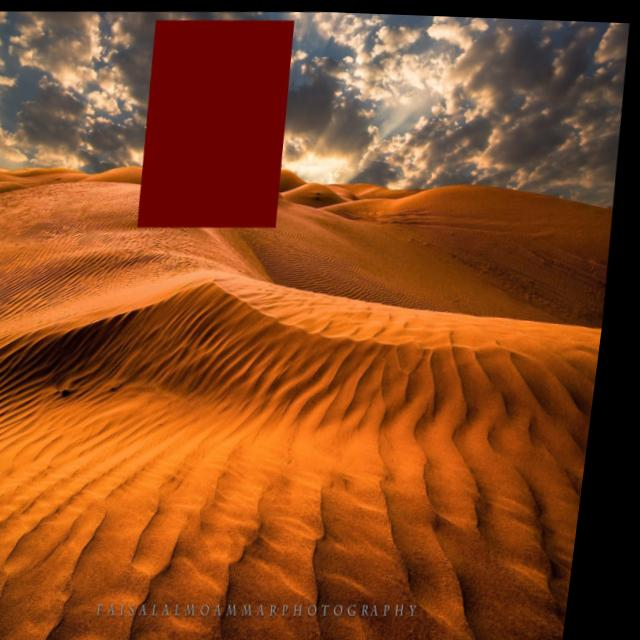RedSquare: (128, 6, 312, 241)
